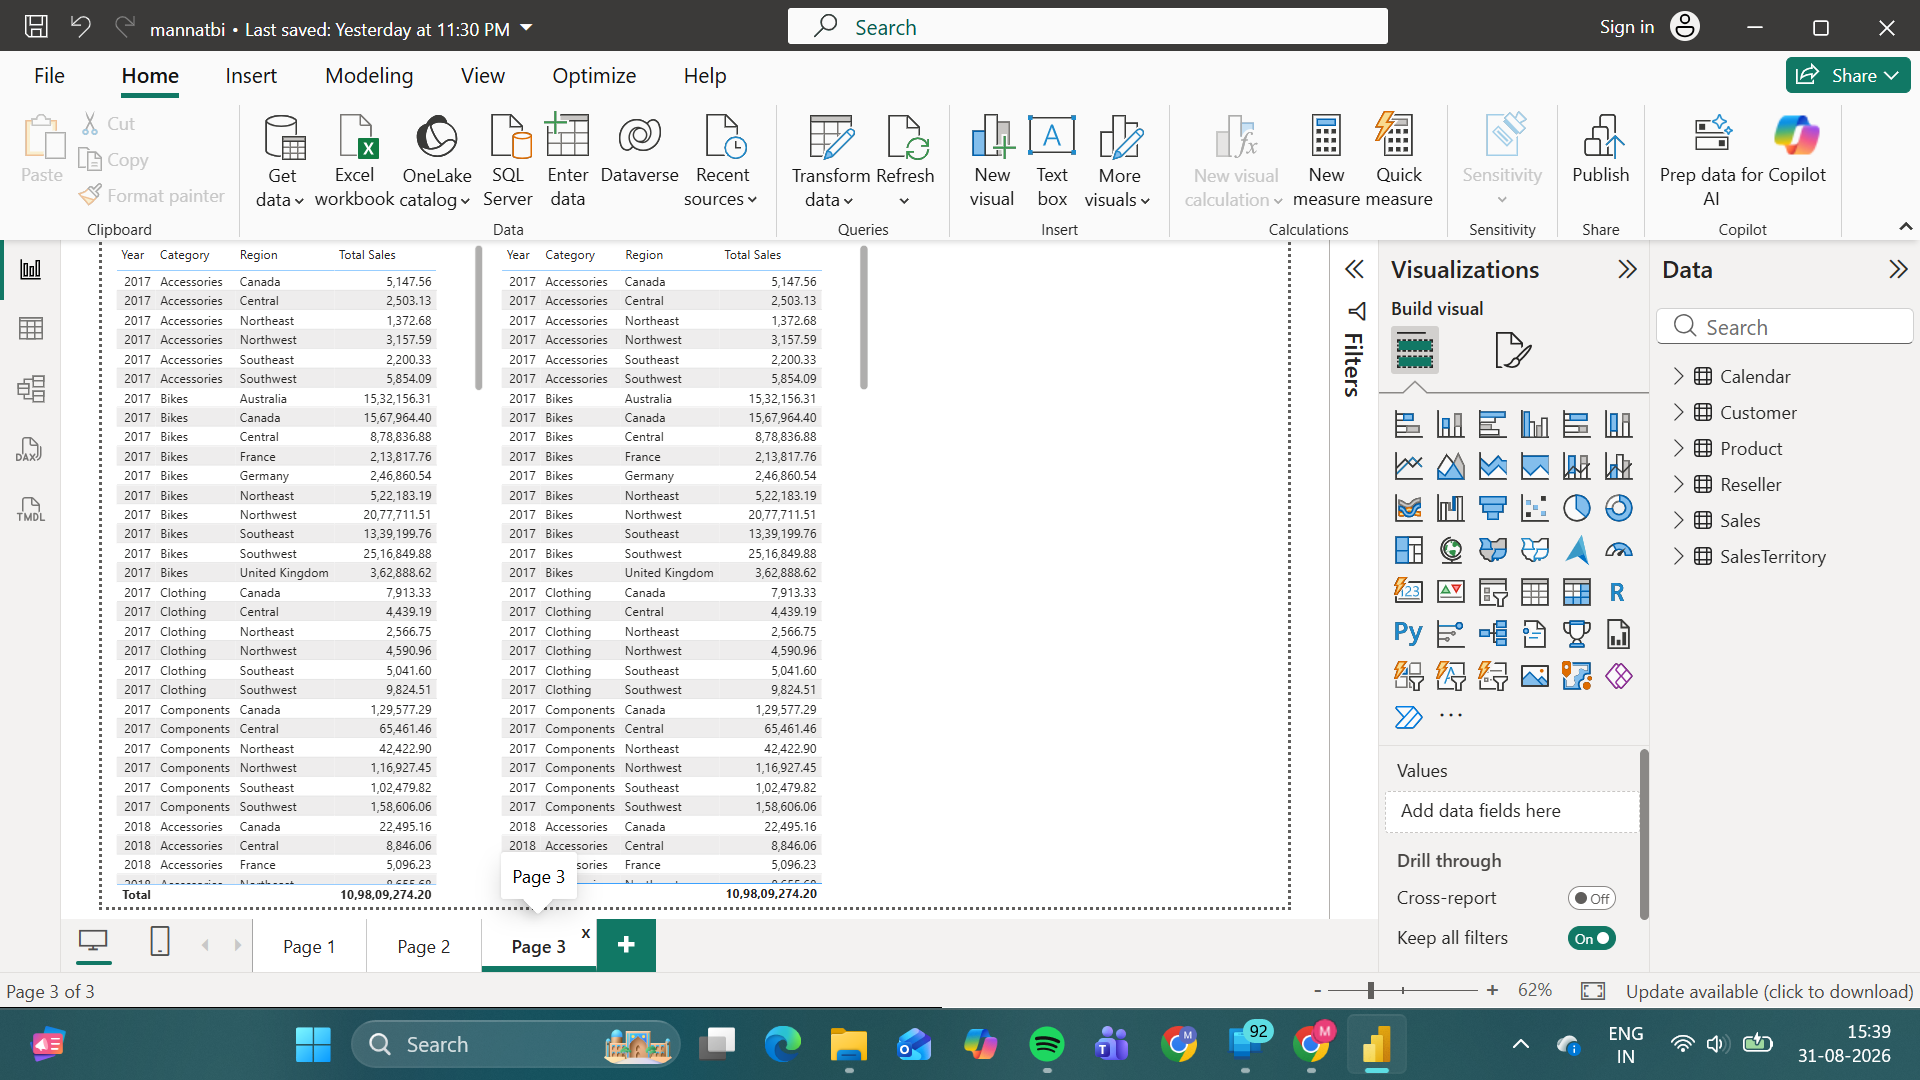

This screenshot's page, from the dashboard's own definition file:
{"tool":"powerbi","page":{"name":"Page 3","canvas":[1280,720],"ordinal":2},"visuals":[{"type":"tableEx","fields":{"Values":["Calendar.Year","Product.Category","SalesTerritory.Region","Sales.Total Sales"]},"box":[9.7,0,406.4,720.6],"z":0},{"type":"tableEx","fields":{"Values":["Calendar.Year","Product.Category","SalesTerritory.Region","Sales.Total Sales"]},"box":[426,0,406,720],"z":1000}]}

Visuals, with their boxes on the page's 1280x720 design canvas (x1, y1, x2, y2). These are canvas units, not pixel positions in the 1920x1080 screenshot, which may show the page scaled, cropped or inside an application window:
tableEx - Calendar.Year x Product.Category: bbox=(10, 0, 416, 721)
tableEx - Calendar.Year x Product.Category: bbox=(426, 0, 832, 720)
